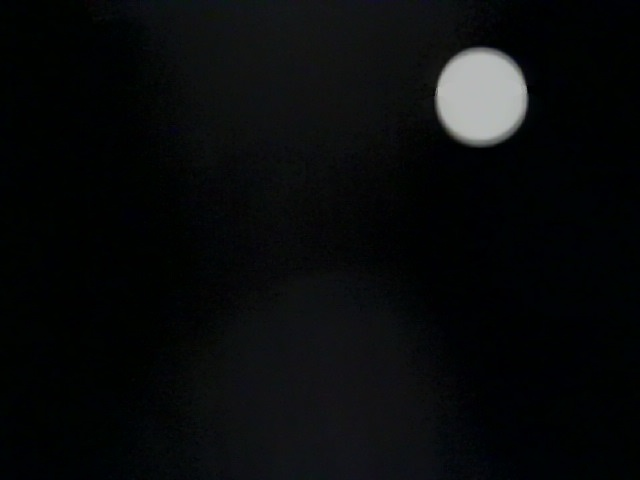YHLJ: (240, 163, 517, 255)
